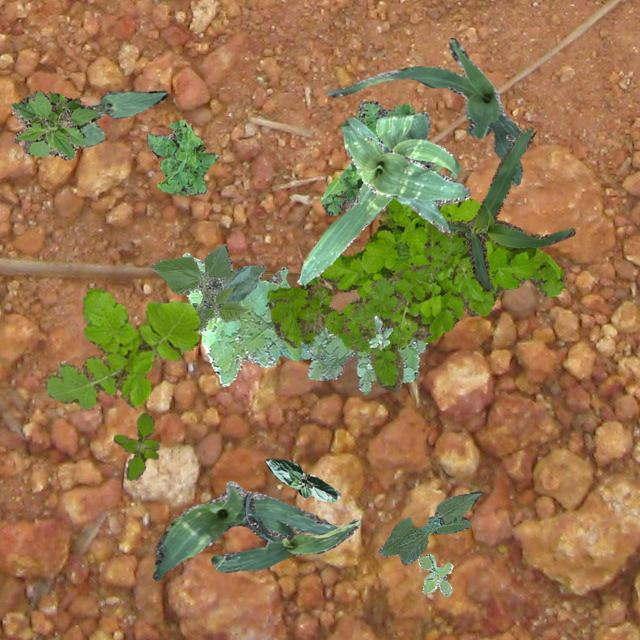crop: (326, 36, 522, 184), (296, 110, 459, 284), (444, 126, 574, 292), (152, 480, 336, 580), (340, 117, 470, 230), (210, 492, 358, 572), (150, 244, 264, 330), (378, 488, 480, 564), (78, 90, 165, 146), (264, 458, 340, 500)
weed: (266, 196, 564, 348), (182, 252, 426, 392), (296, 220, 464, 390), (44, 286, 198, 409), (320, 100, 414, 214), (11, 90, 98, 158), (146, 119, 218, 194), (112, 412, 158, 479), (416, 552, 452, 596), (368, 314, 392, 348)
